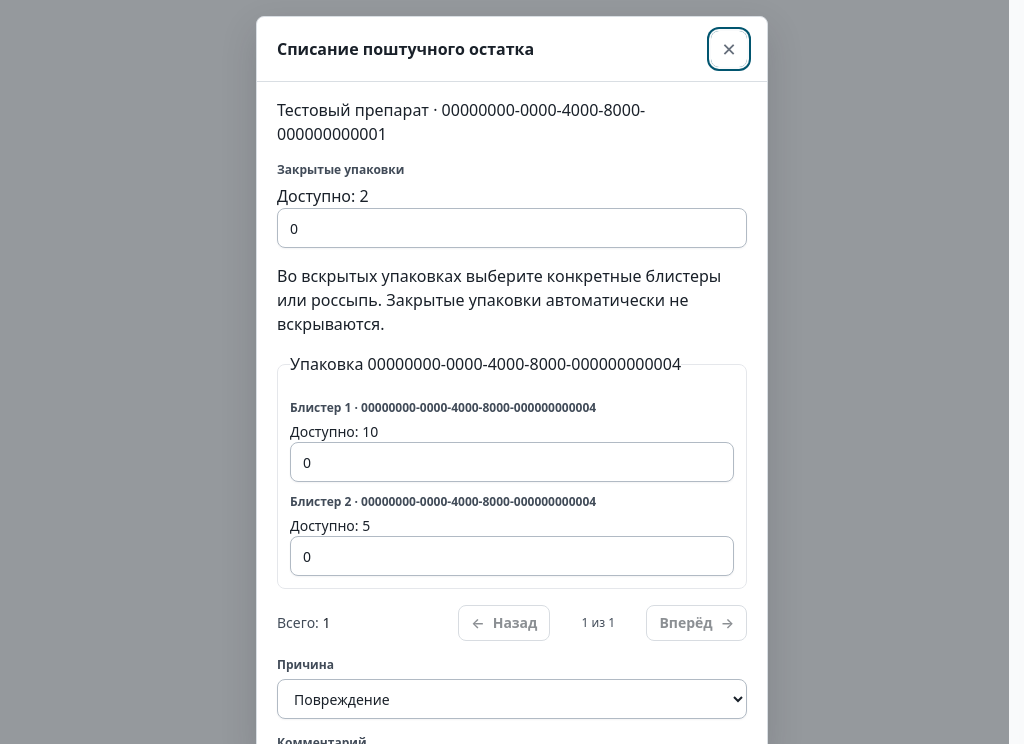
it: physical write-off explicit selection › rejects malformed quantity -1
Replace the text in the field labelled "Закрытые упаковки" with "-1" at {"x": 512, "y": 228}, box [277,208,747,248]
(page scrolled)
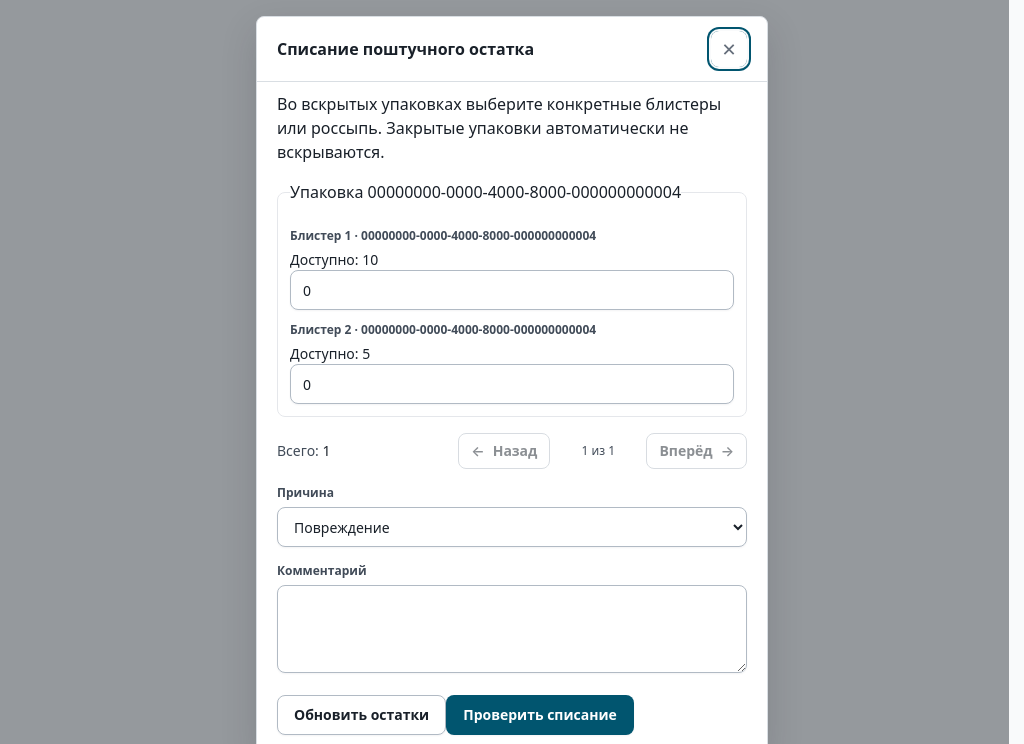
Click the button "Проверить списание" at {"x": 540, "y": 715}, box [446,695,634,735]
(page scrolled)
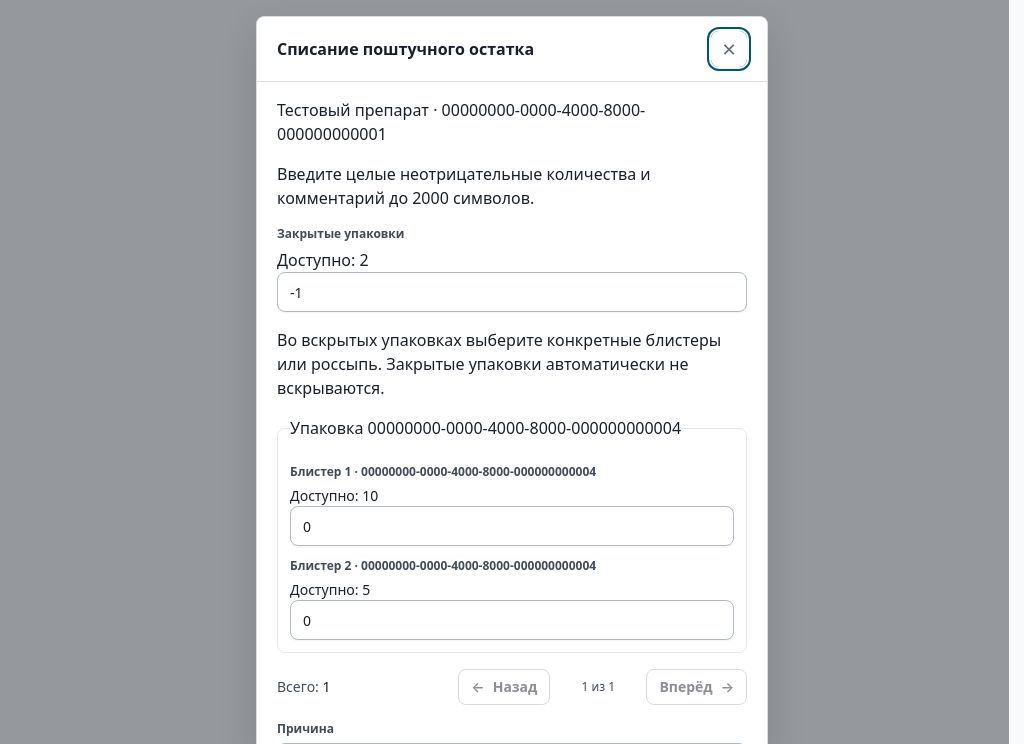
expect the message shows "целые неотрицательные": met, box [277,163,651,209]
